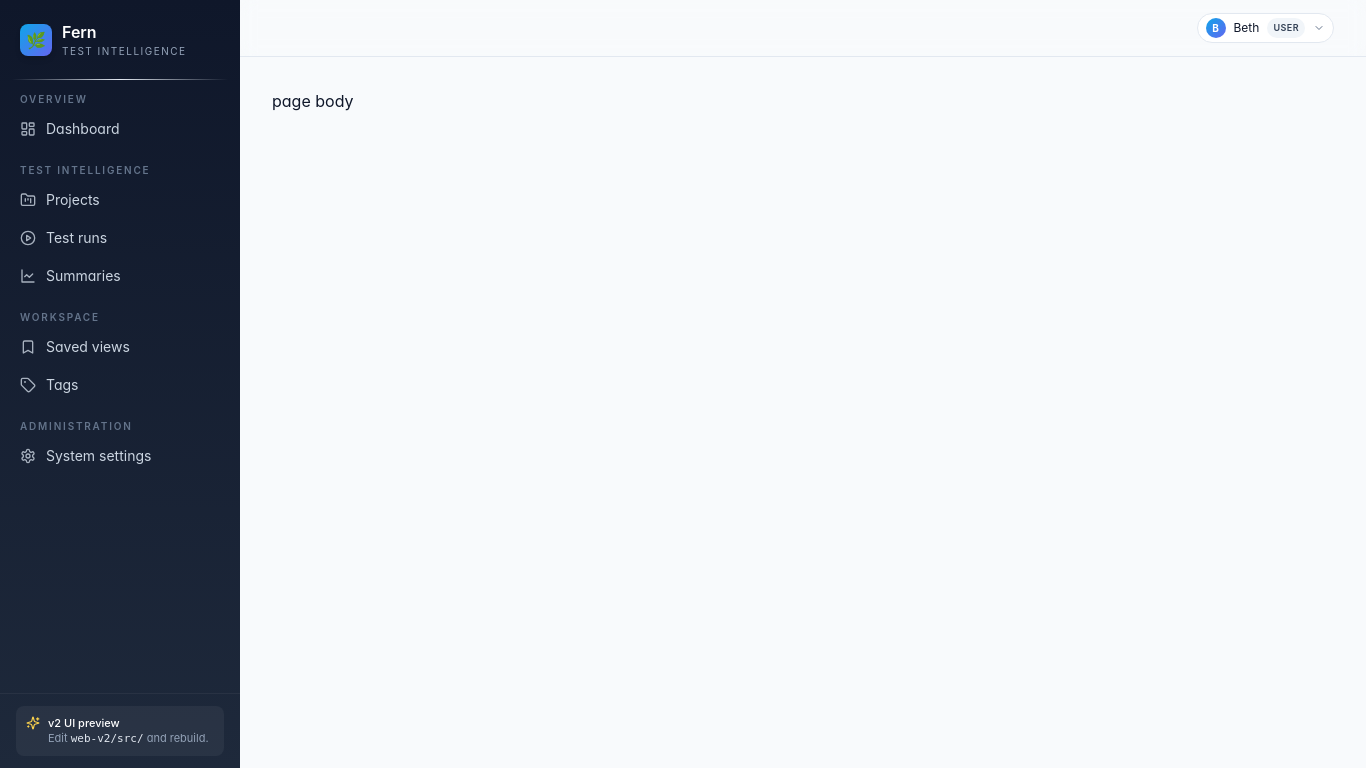
Scenario: TopBar user pill › shows Admin Panel link only when role is admin
Click the button at (1265, 28), box left=1196, top=13, right=1334, bottom=43
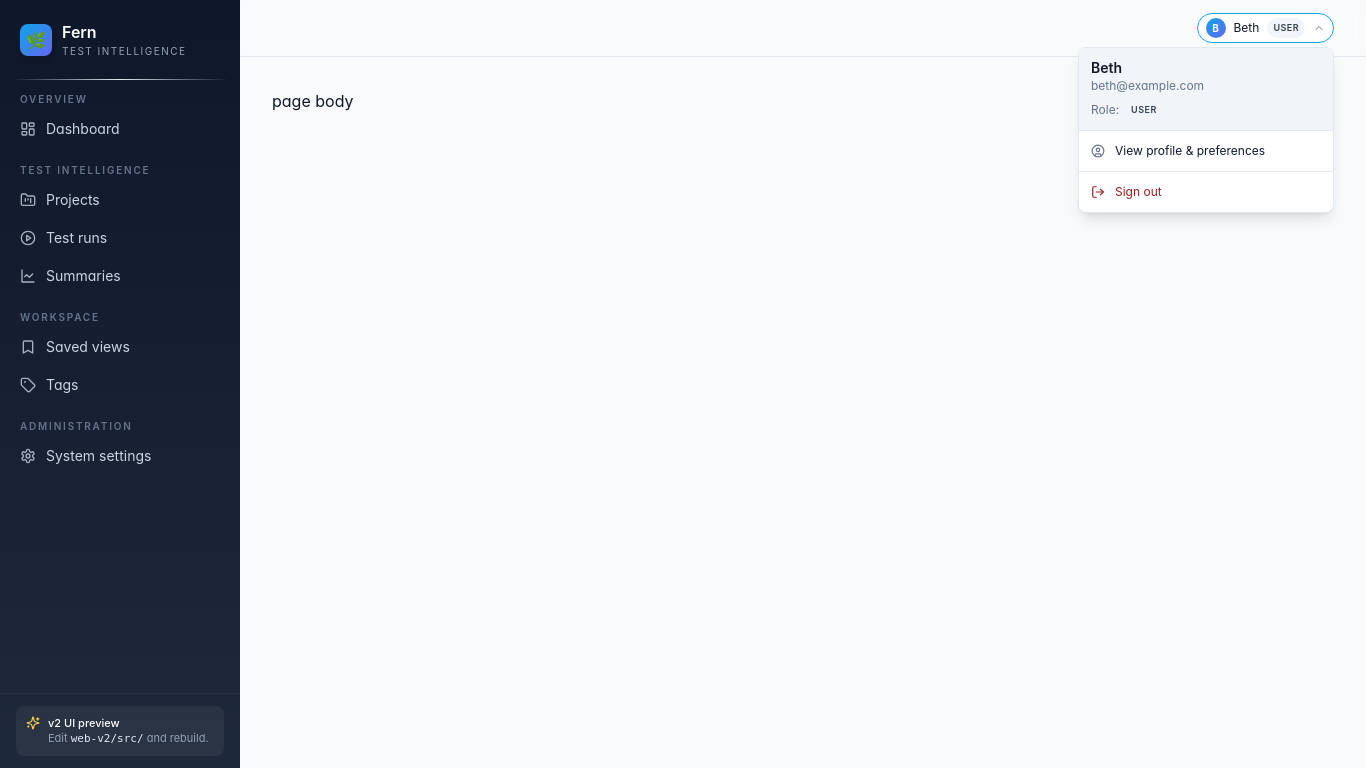
Result: the text "View profile & preferences" is shown at left=1115, top=143, right=1265, bottom=159
